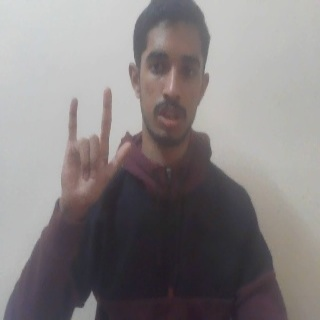Face: (128, 4, 211, 148)
I Love You: (58, 86, 133, 217)
